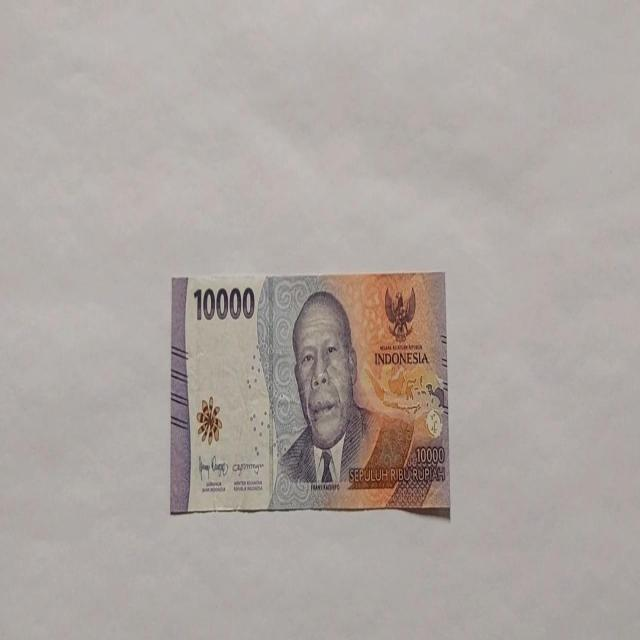Kertas: (170, 270, 450, 516), (192, 284, 256, 322)
